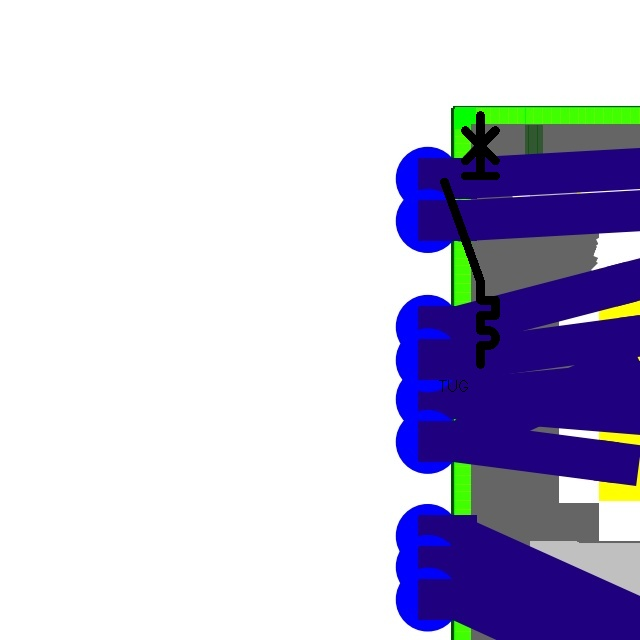interruptor_termomagnetico: (438, 109, 502, 371)
